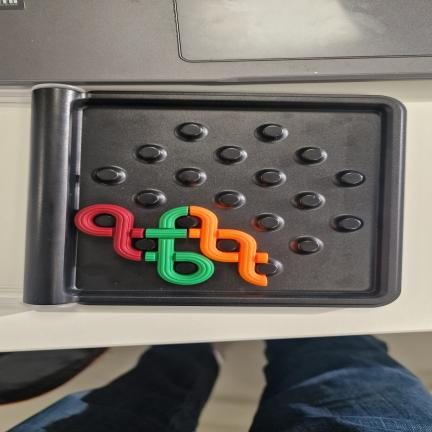D_Green: (145, 207, 214, 285)
I_Orange: (189, 207, 268, 285)
J_DarkRed: (75, 205, 143, 260)
board: (23, 85, 405, 307)
hinge: (22, 84, 88, 317)
pin: (217, 239, 239, 252), (175, 262, 197, 275), (302, 149, 323, 162), (221, 148, 242, 161), (179, 170, 200, 183), (135, 238, 156, 251), (341, 172, 363, 184), (299, 195, 321, 207), (94, 215, 116, 227), (339, 218, 361, 230), (263, 125, 283, 138), (140, 146, 160, 159), (261, 171, 281, 184), (181, 124, 202, 136), (97, 169, 118, 181), (219, 194, 240, 206), (138, 193, 159, 205), (177, 216, 198, 228), (298, 240, 319, 252), (257, 263, 278, 275), (259, 217, 279, 229)
